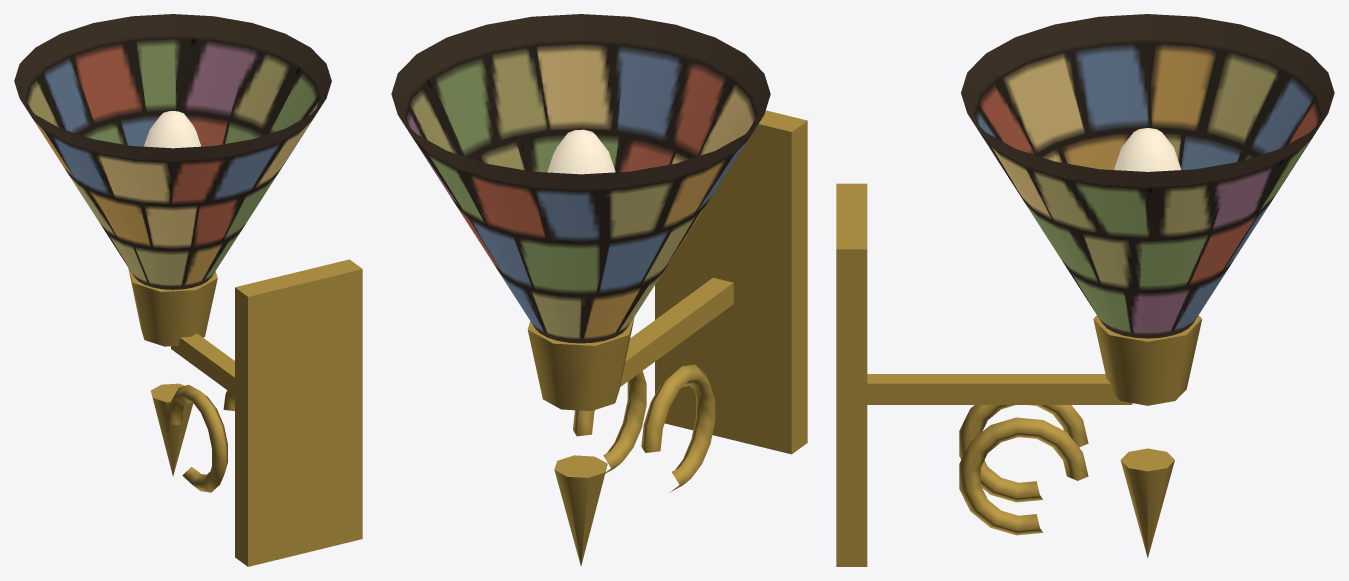
Rendered from lamp-pillar.glb.
3 views of the same model, side by side, from view 1: azimuth 30°, elevation 25°; view 2: azimuth 150°, elevation 25°; view 3: azimuth 270°, elevation 25° (orthographic). The views are drawn at different scales.
Visible parts, largest first — view 1: lamp-pillar; view 2: lamp-pillar; view 3: lamp-pillar.
Part boxes in pixels (box(x1,y1,x2,y2)): lamp-pillar: box(14, 14, 362, 566); lamp-pillar: box(391, 14, 807, 566); lamp-pillar: box(836, 14, 1334, 566).
Bounding box in the file's own units: 0.48 × 0.66 × 0.64.
Materials: 3 (1 with a texture image).
